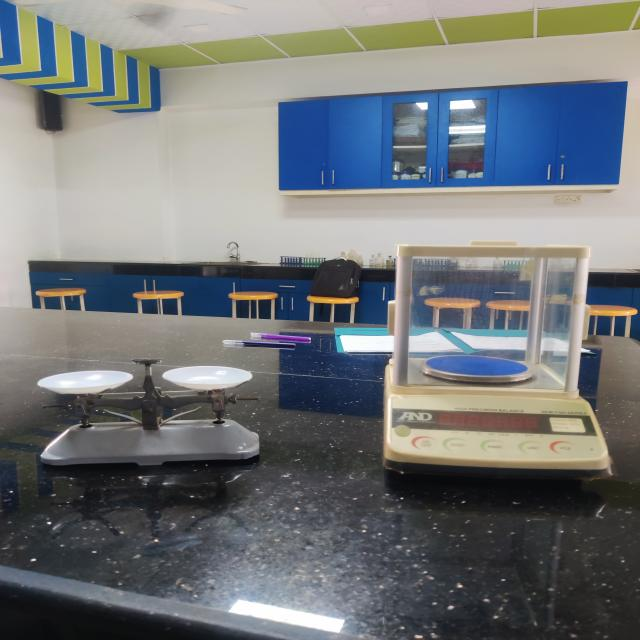Mechanical_Balance_Scale: (18, 341, 285, 509)
Precision_Weight_Scale: (335, 189, 640, 545)
